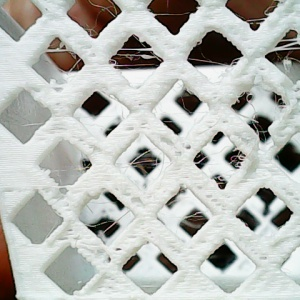3dpstringing: (230, 81, 285, 134), (81, 197, 136, 238), (194, 149, 250, 187), (118, 149, 170, 188), (46, 156, 95, 192), (107, 46, 165, 73), (165, 198, 213, 227), (267, 32, 299, 74), (185, 54, 242, 76), (42, 48, 89, 74), (79, 108, 129, 130), (172, 89, 209, 116), (236, 7, 278, 28), (88, 2, 123, 19), (149, 12, 187, 22), (135, 281, 167, 291)
3dpunderextrusion: (240, 132, 284, 189), (190, 182, 233, 216), (157, 132, 200, 162)
